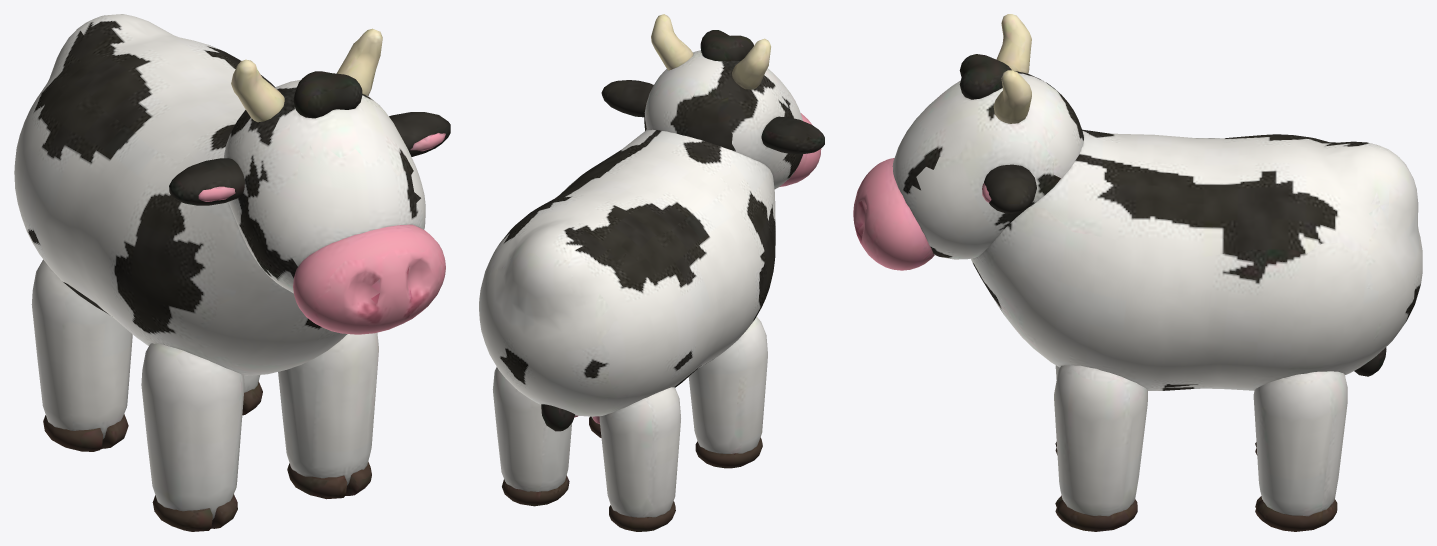
Rendered from animal_cow.glb.
3 renders of one model, left to right at view 1: azimuth 30°, elevation 25°; view 2: azimuth 150°, elevation 25°; view 3: azimuth 270°, elevation 25°, orthographic. The views are drawn at different scales.
Parts seen in each view (by area): view 1: animal_cow, head, leg0, leg2, leg1, leg3; view 2: animal_cow, head, leg2, leg0, leg3, tail; view 3: animal_cow, head, leg1, leg3.
Part boxes in pixels (left/top/right/bottom): animal_cow: left=14, top=14, right=347, bottom=375; head: left=169, top=28, right=450, bottom=334; leg0: left=141, top=343, right=244, bottom=531; leg2: left=31, top=259, right=132, bottom=451; leg1: left=278, top=333, right=378, bottom=499; leg3: left=242, top=375, right=262, bottom=415; animal_cow: left=479, top=129, right=775, bottom=423; head: left=601, top=14, right=824, bottom=189; leg2: left=599, top=387, right=680, bottom=531; leg0: left=688, top=316, right=767, bottom=468; leg3: left=492, top=367, right=571, bottom=506; tail: left=541, top=404, right=574, bottom=431; animal_cow: left=971, top=129, right=1422, bottom=390; head: left=853, top=14, right=1083, bottom=270; leg1: left=1054, top=365, right=1147, bottom=531; leg3: left=1253, top=371, right=1347, bottom=531.
Size of the model in its own units: 0.3493 by 0.6018 by 0.6844.
1 material, 1 textured.
